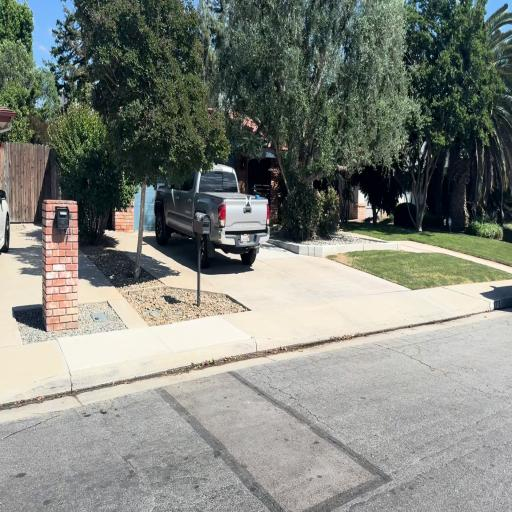target1: (246, 195, 251, 207)
